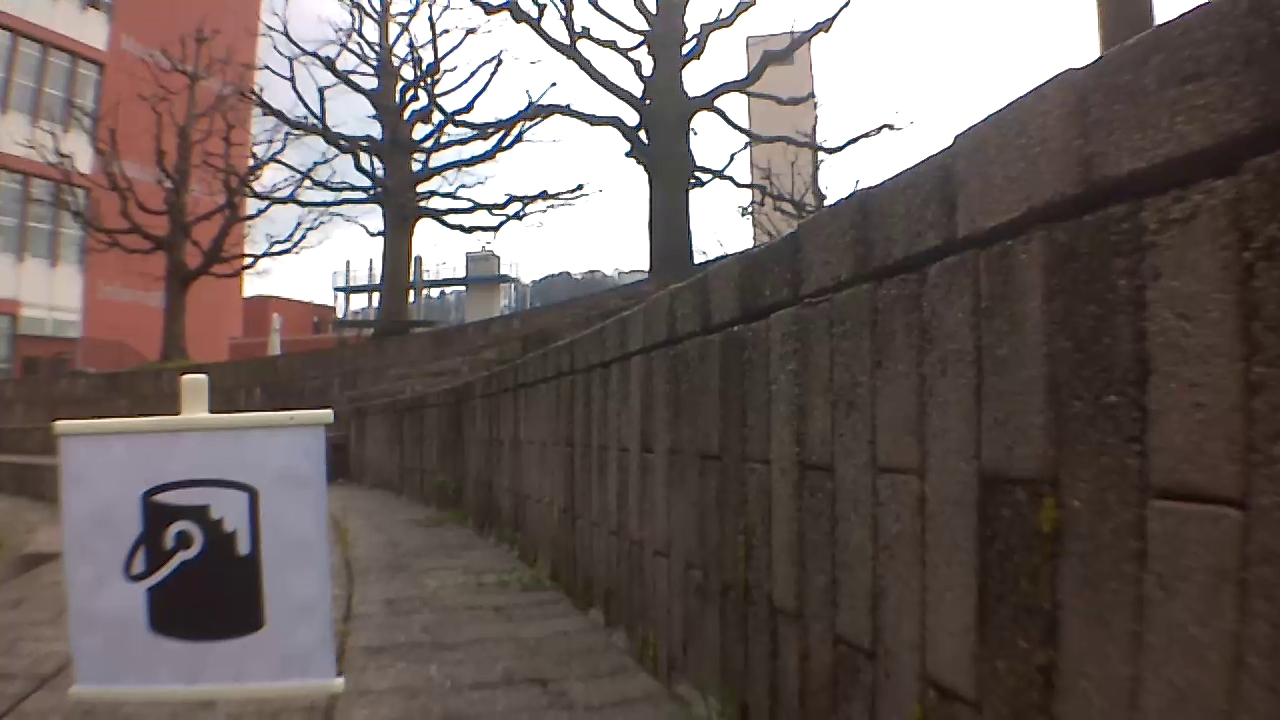bucket: (121, 477, 270, 640)
